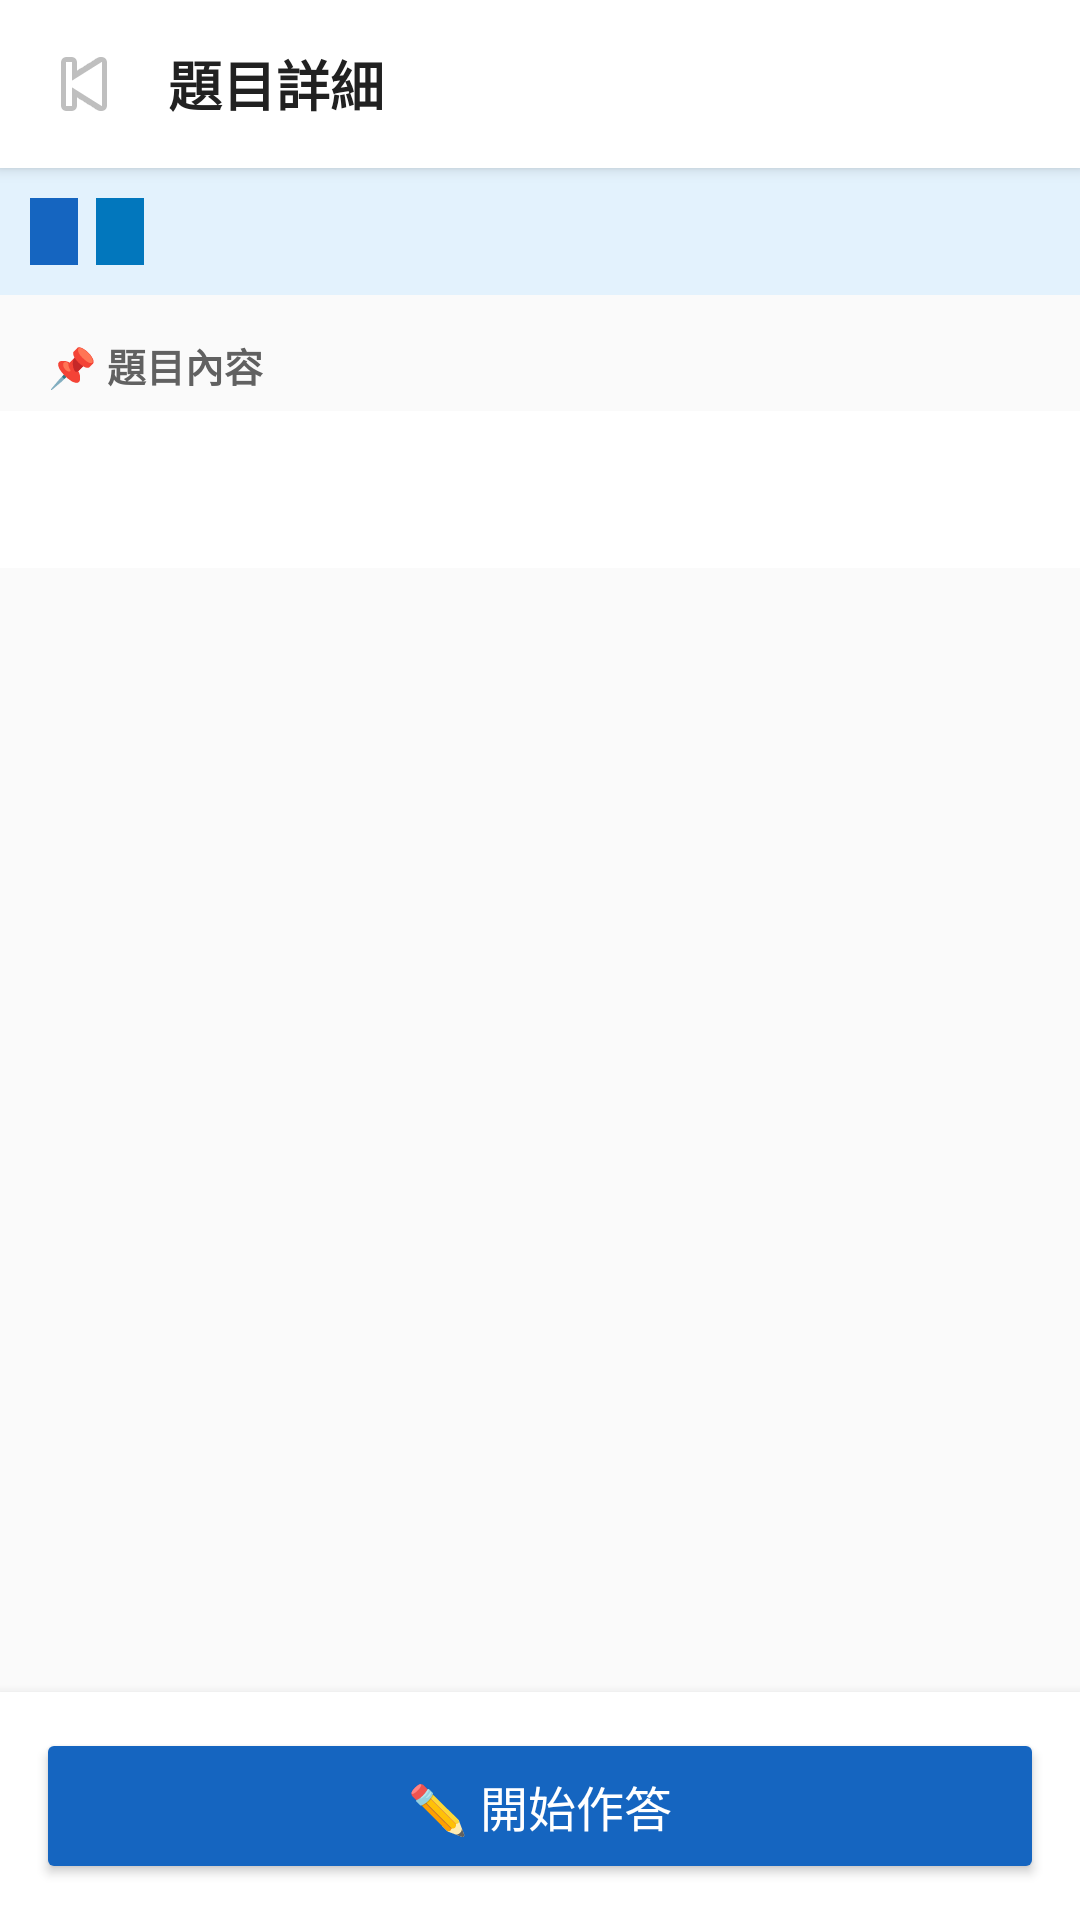

Screen size 1080×1920. Icon name, then its center in pixels as point (x, y):
返回: point (84, 84)
